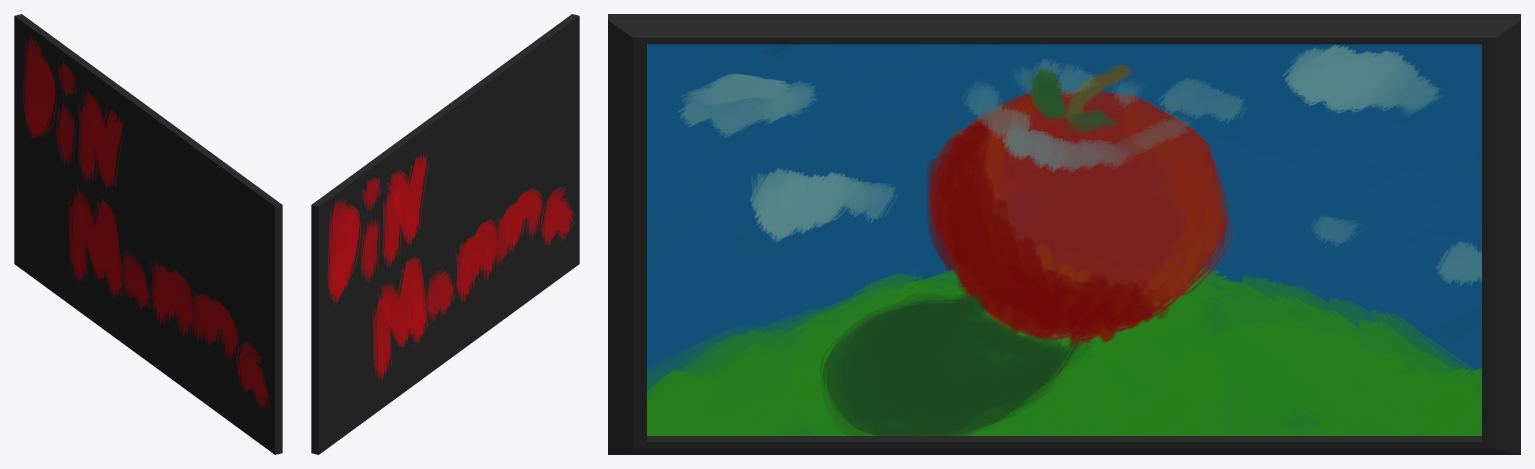
Rendered from Big-tavla1.fbx.
3 renders of one model, left to right at view 1: azimuth 30°, elevation 25°; view 2: azimuth 150°, elevation 25°; view 3: azimuth 270°, elevation 25°, orthographic. The views are drawn at different scales.
Visible parts, largest first — view 1: pCube1; view 2: pCube1; view 3: pCube1.
Boxes of the visible parts, x1=… form: pCube1: x1=14, y1=14, x2=282, y2=454; pCube1: x1=311, y1=14, x2=579, y2=454; pCube1: x1=608, y1=14, x2=1520, y2=454.
Bounding box in the file's own units: 0.5252 × 9 × 17.13.
Materials: 1 (1 with a texture image).
